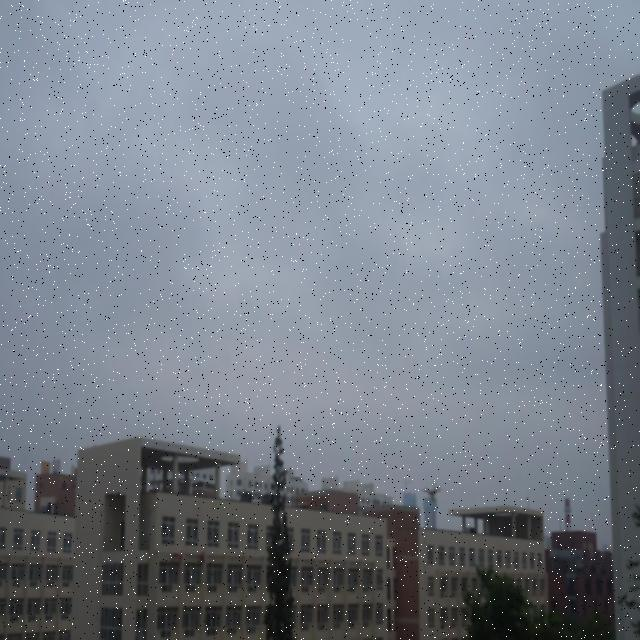UAV: (420, 483, 443, 502)
